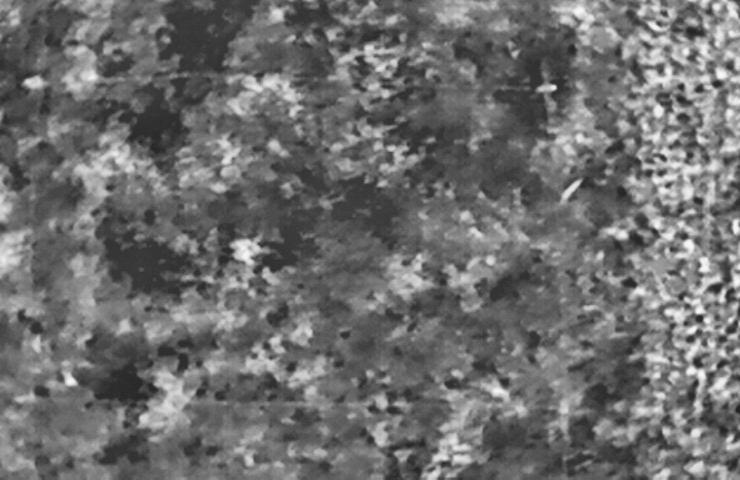landmines: (231, 234, 269, 268)
